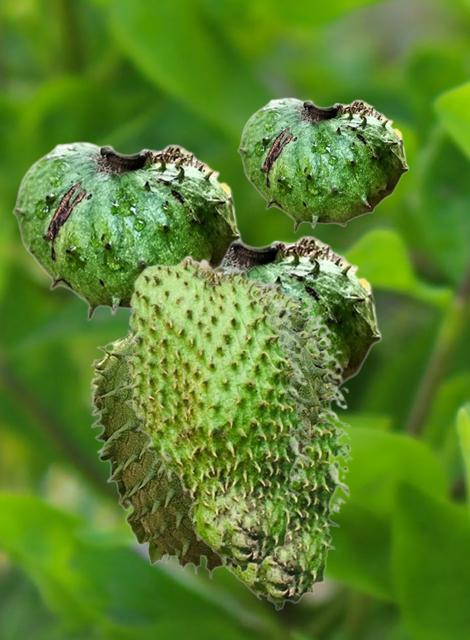guyabano: (90, 305, 337, 579), (122, 254, 312, 572), (225, 277, 353, 610), (12, 141, 240, 320), (131, 233, 381, 385), (237, 97, 408, 232)
